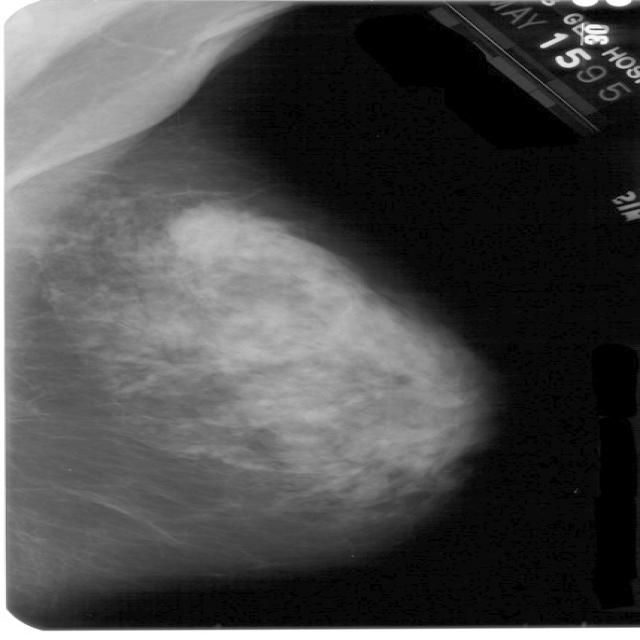tumour: (174, 205, 253, 265)
